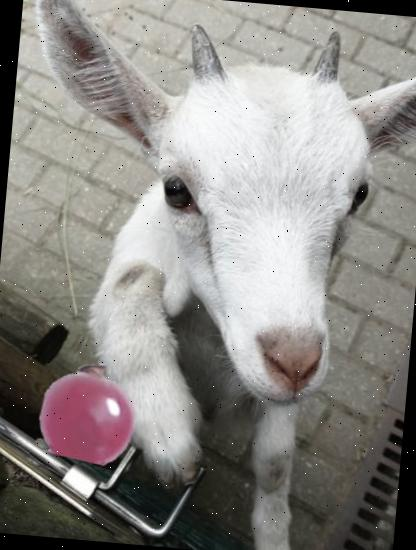Redcurrant: (36, 358, 144, 466)
